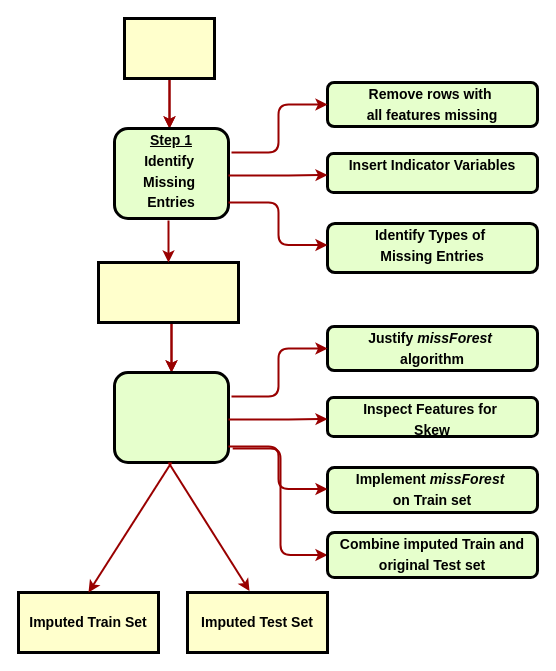
This 556x671 diagram has some shape labels left out. The shapes that lost their labels are listed below. From the top down, each one's centre as x and y in pixels, then its label:
At [169,48]: "Raw Data".
At [168,292]: "Data plus Indicator Variables".
At [171,417]: "Step 2 Imputation".
